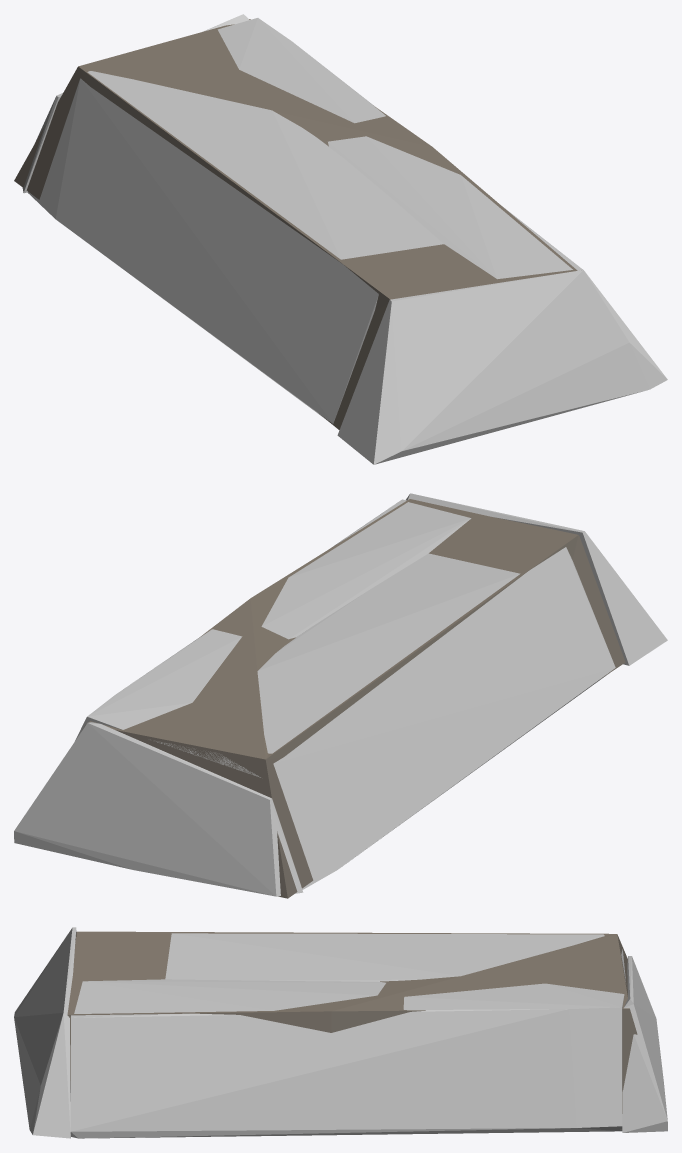
File: SM_Env_Footpath_Stone_05.fbx
The picture shows the model from 3 angles, top to bottom: view 1: azimuth 30°, elevation 25°; view 2: azimuth 150°, elevation 25°; view 3: azimuth 270°, elevation 25°; orthographic projection. The views are drawn at different scales.
Parts seen in each view (by area): view 1: SM_Env_Footpath_Stone_05_ConvexHulls, SM_Env_Footpath_Stone_05; view 2: SM_Env_Footpath_Stone_05_ConvexHulls, SM_Env_Footpath_Stone_05; view 3: SM_Env_Footpath_Stone_05_ConvexHulls, SM_Env_Footpath_Stone_05.
Boxes of the visible parts, x1,y1,x2,y2 form: SM_Env_Footpath_Stone_05_ConvexHulls: (22,14,667,464); SM_Env_Footpath_Stone_05: (14,19,577,429); SM_Env_Footpath_Stone_05_ConvexHulls: (14,493,667,896); SM_Env_Footpath_Stone_05: (83,499,625,898); SM_Env_Footpath_Stone_05_ConvexHulls: (14,927,667,1138); SM_Env_Footpath_Stone_05: (67,931,637,1129).
Bounding box in the file's own units: 59.84 × 131 × 23.61.
2 materials, 1 textured.
